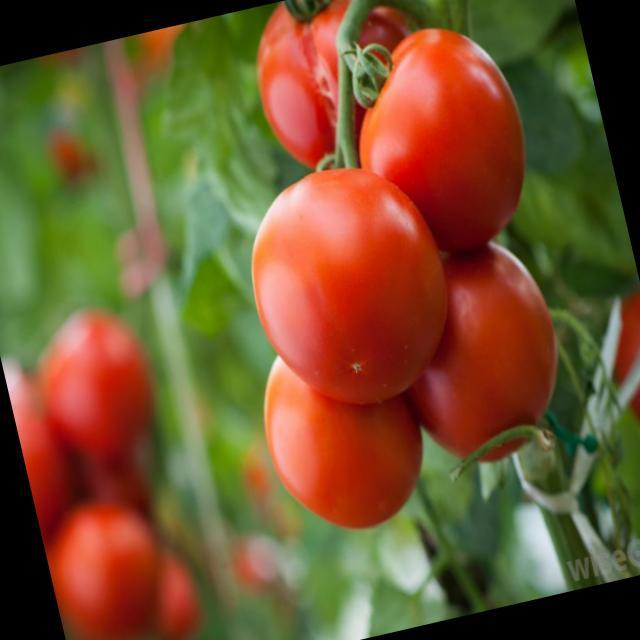TOMATO: (226, 151, 466, 422), (343, 10, 544, 266), (241, 304, 435, 550), (397, 234, 578, 492), (241, 0, 436, 175), (27, 290, 158, 445), (35, 488, 158, 638), (5, 367, 84, 524), (593, 277, 640, 436)
